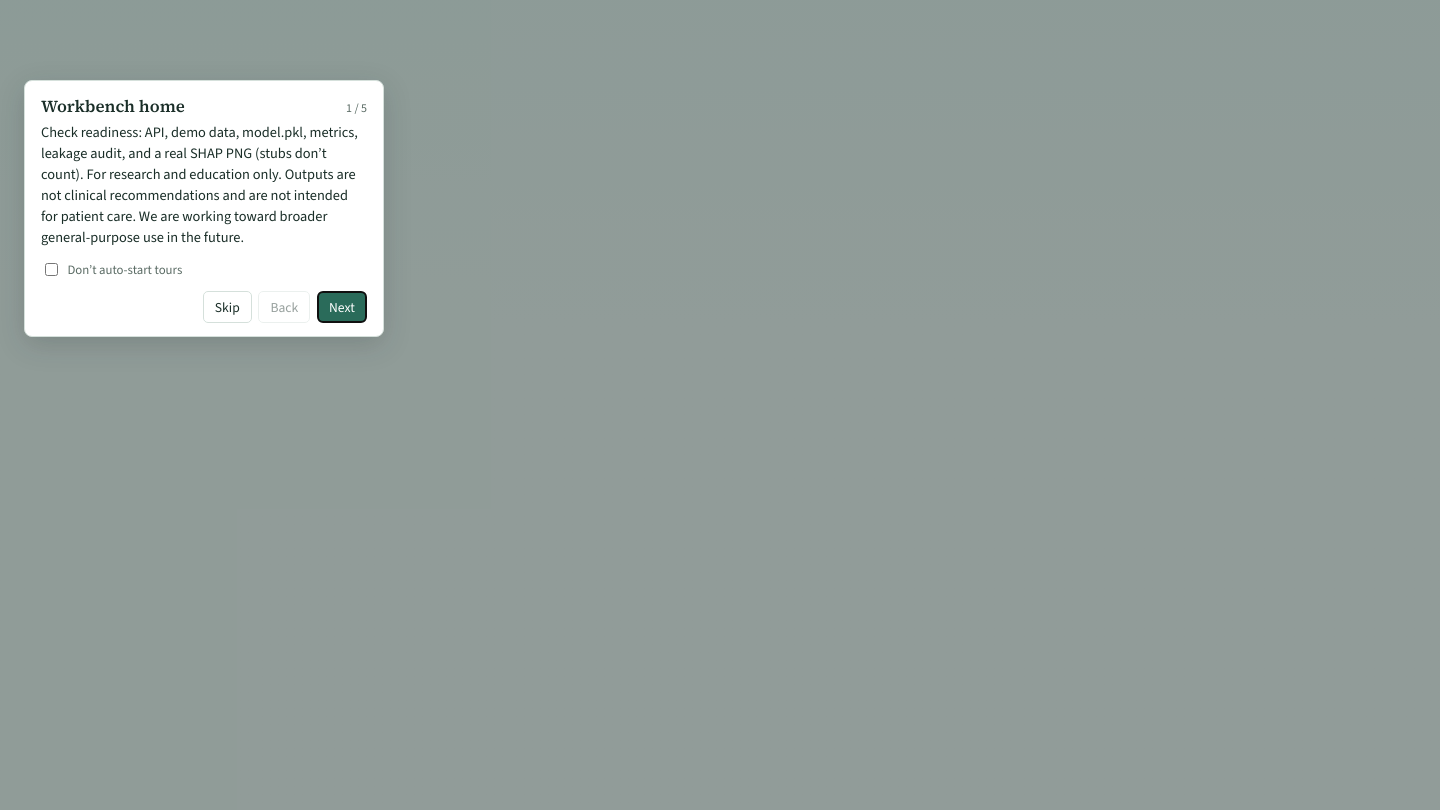
Scenario: PageTourComponent › renders tip when tour is active
Expected: the element with class "tour-tip" is shown, x1=24 y1=80 x2=384 y2=337
Expected: the element with class "tour-tip" shows "Workbench home", x1=41 y1=95 x2=185 y2=118
Click the button "Next". click: (342, 307)
box: x1=317 y1=291 x2=367 y2=323
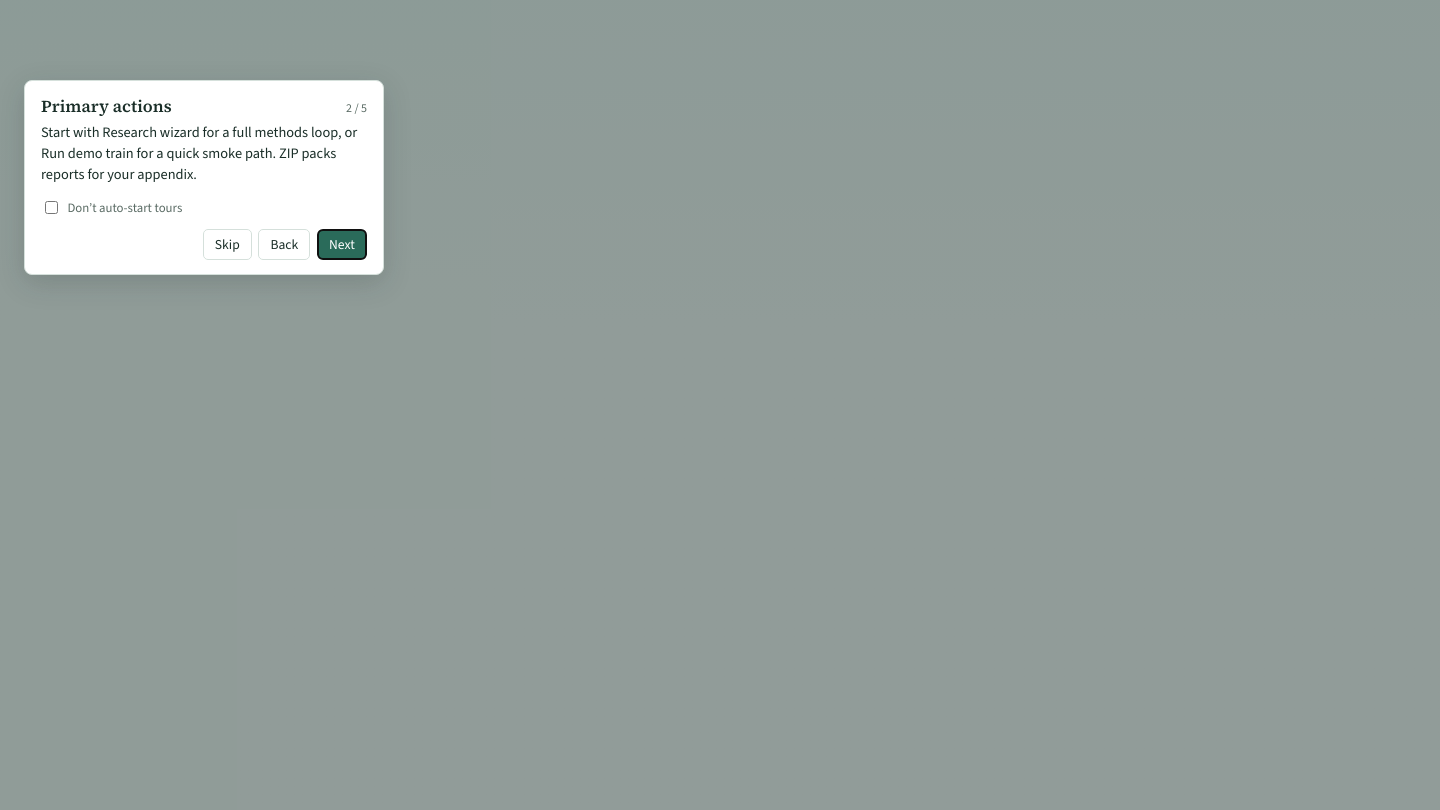
Result: the text "Primary actions" is shown at x1=41 y1=95 x2=172 y2=118
